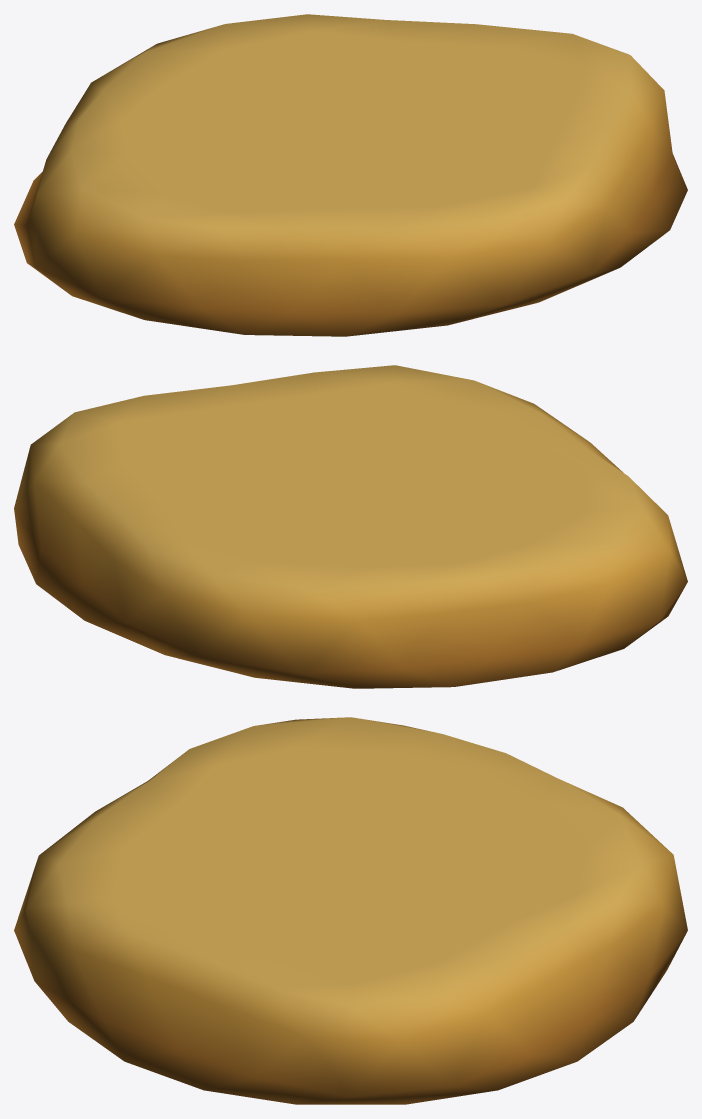
Rendered from cove-sandbar.glb.
The picture shows the model from 3 angles, top to bottom: view 1: azimuth 30°, elevation 25°; view 2: azimuth 150°, elevation 25°; view 3: azimuth 270°, elevation 25°; orthographic projection. The views are drawn at different scales.
Visible parts, largest first — view 1: SandbarIslet; view 2: SandbarIslet; view 3: SandbarIslet.
Boxes of the visible parts, x1,y1,x2,y2 form: SandbarIslet: (14,14,687,336); SandbarIslet: (14,365,687,688); SandbarIslet: (14,717,687,1104).
Bounding box in the file's own units: 10.41 × 1.3 × 8.92.
